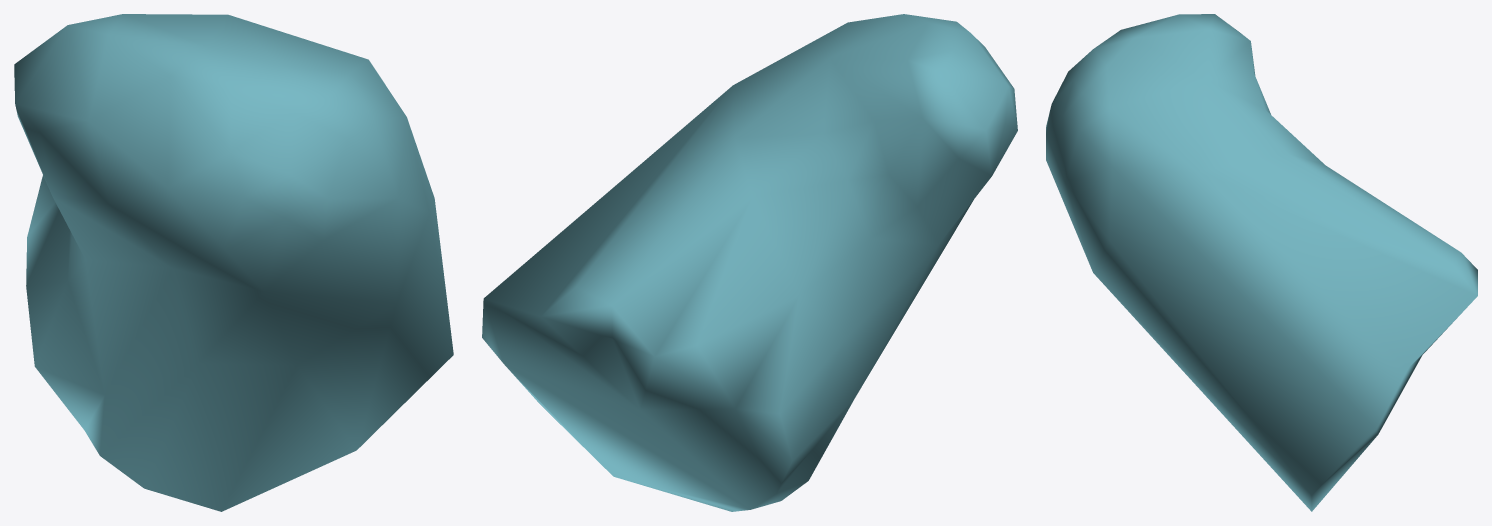
3 views of the same model, side by side, from view 1: azimuth 30°, elevation 25°; view 2: azimuth 150°, elevation 25°; view 3: azimuth 270°, elevation 25° (orthographic). The views are drawn at different scales.
Parts seen in each view (by area): view 1: 左侧小角软骨; view 2: 左侧小角软骨; view 3: 左侧小角软骨.
Boxes of the visible parts, x1,y1,x2,y2 form: 左侧小角软骨: [14, 14, 453, 511]; 左侧小角软骨: [482, 14, 1017, 511]; 左侧小角软骨: [1046, 14, 1477, 511].
Bounding box in the file's own units: 0.00223 × 0.00233 × 0.0023.
